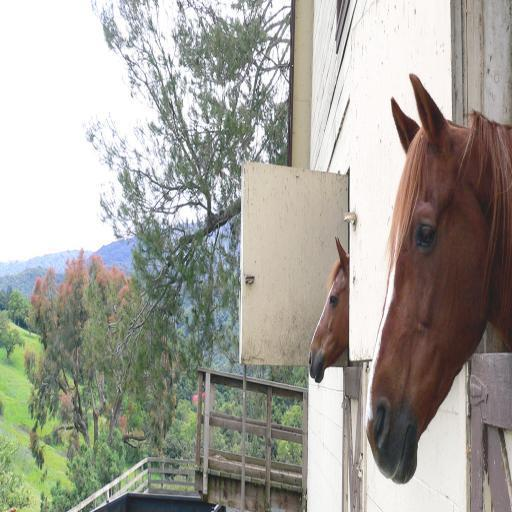horse: (366, 77, 509, 502), (308, 229, 348, 386)
